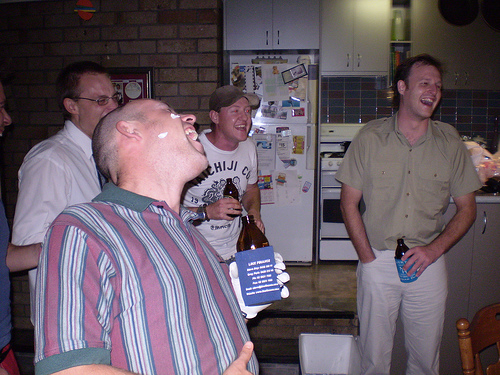without_mask: (99, 100, 213, 205), (65, 68, 130, 145), (201, 82, 263, 147), (392, 58, 446, 121)
